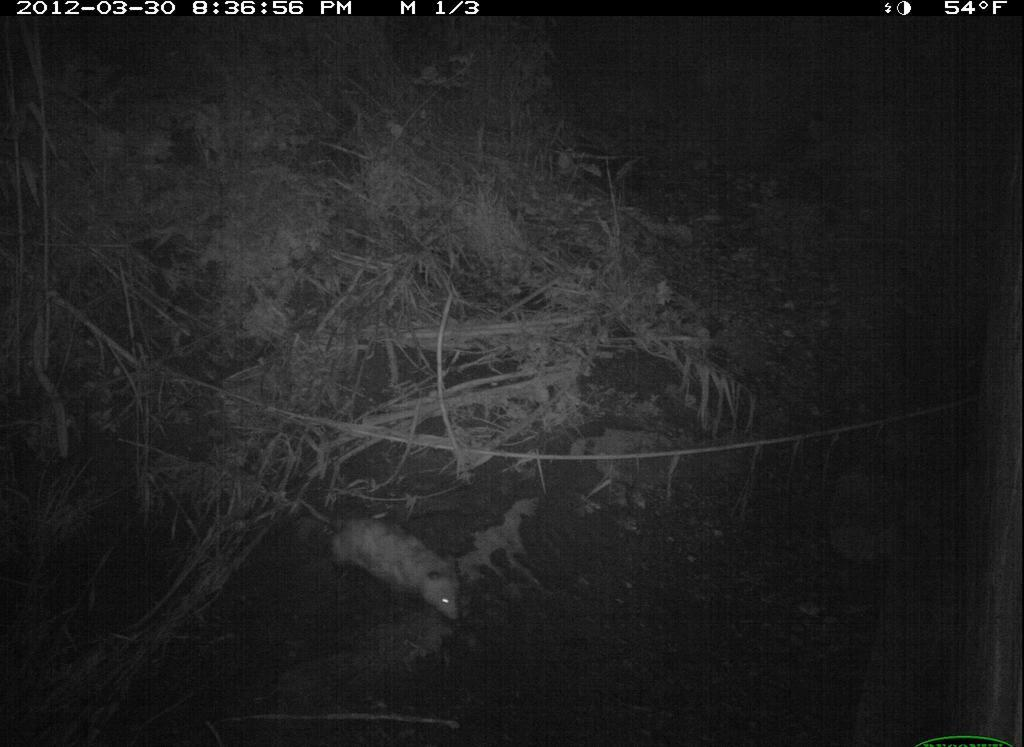opossum: (290, 477, 481, 651)
